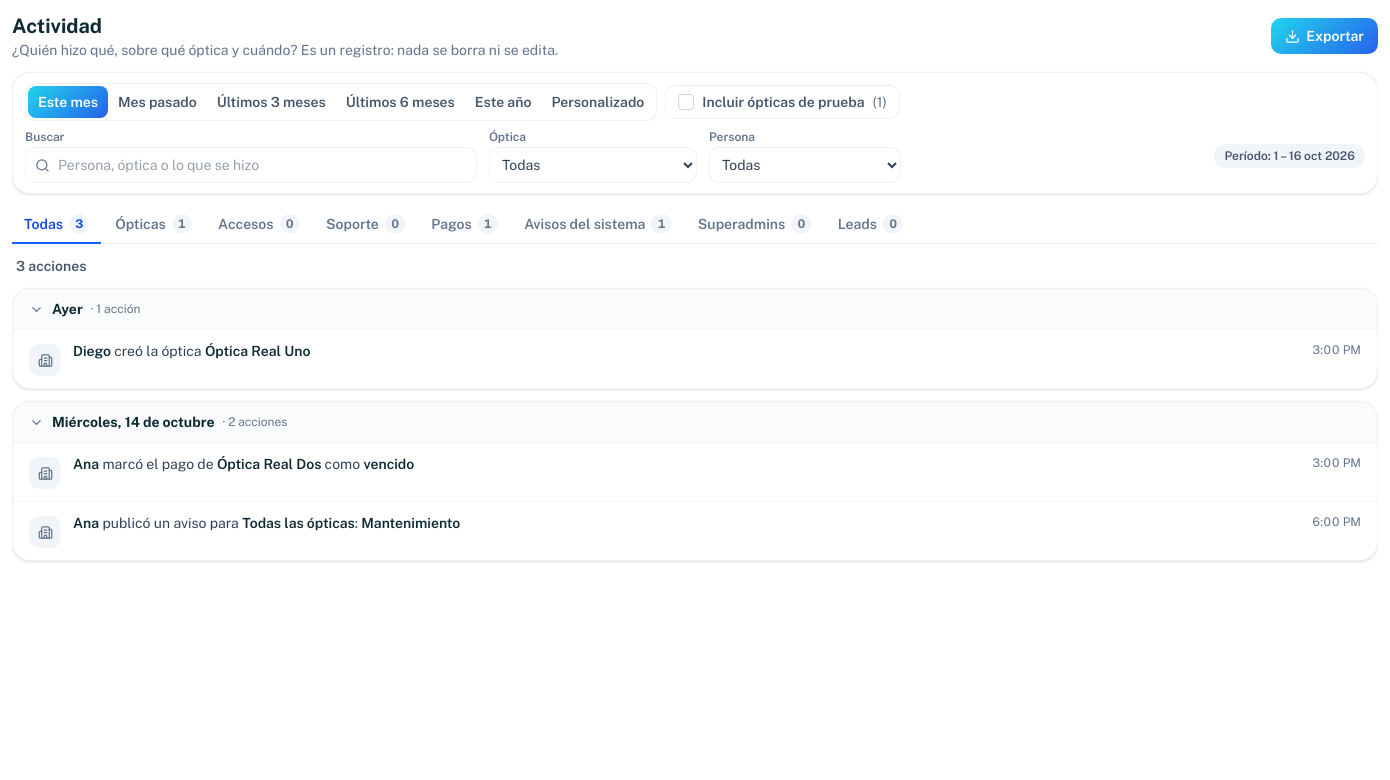
it: Actividad del superadmin › filtra por tipo y los filtros activos se ven como etiquetas con su 'x'
Expected: the text "3 acciones" is shown, [16,258,86,274]
Step 1. Click the tab "Pagos 1" → (465, 225), box [419,206,510,244]
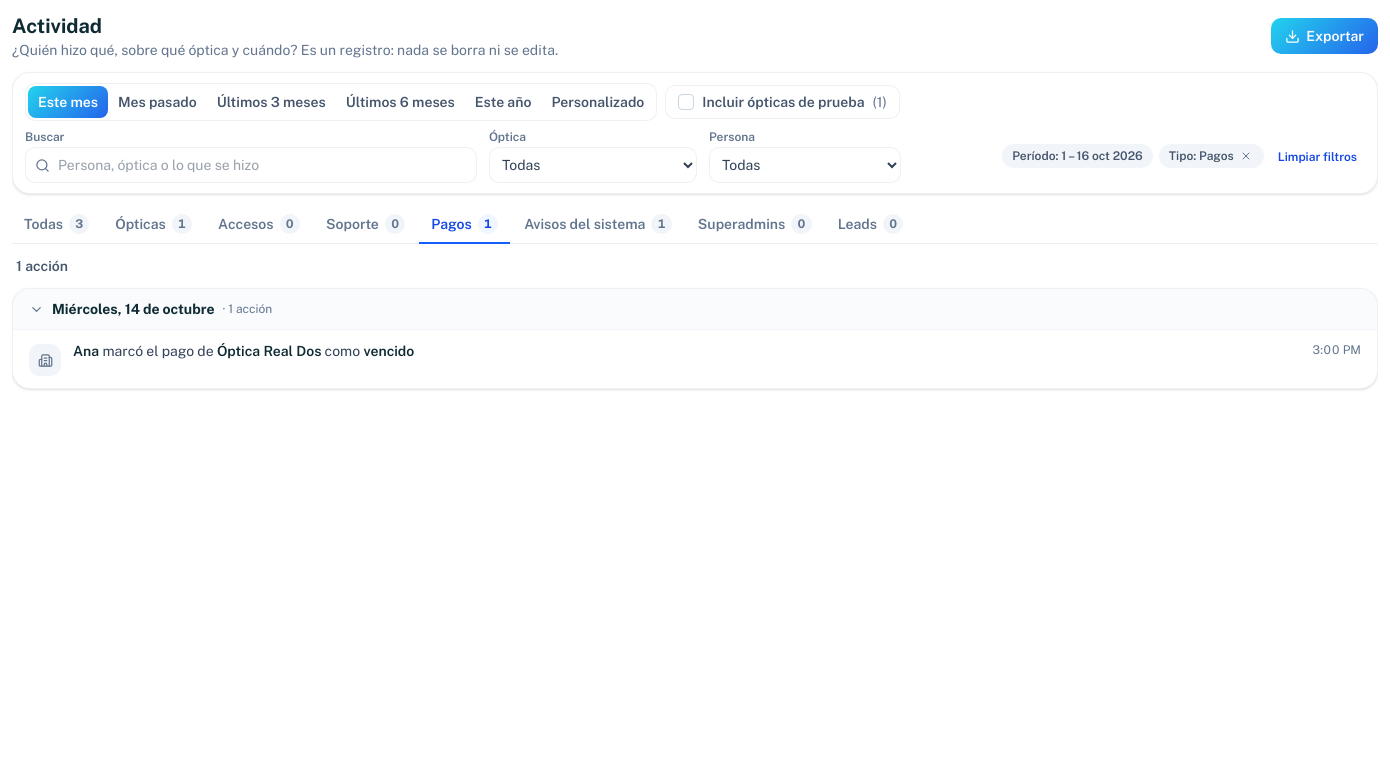
Now the text "1 acción" is shown, box [16,258,68,274]
Step 2. Click the button named "Quitar el filtro" → (1246, 156), box [1238,148,1254,164]
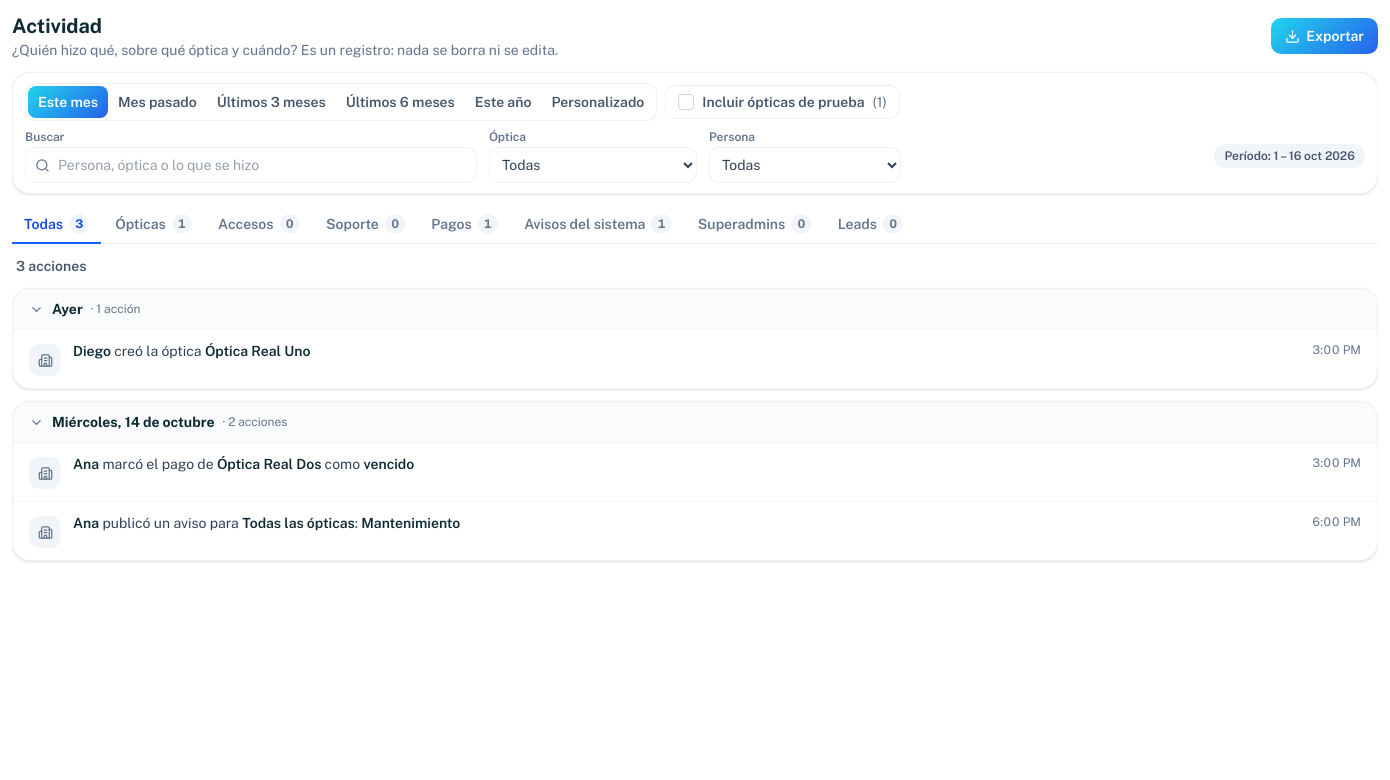
Now the text "3 acciones" is shown, box [16,258,86,274]
Step 3. Type "mantenimiento" into the search field named "Buscar en la actividad" → (251, 165), box [25,147,477,183]
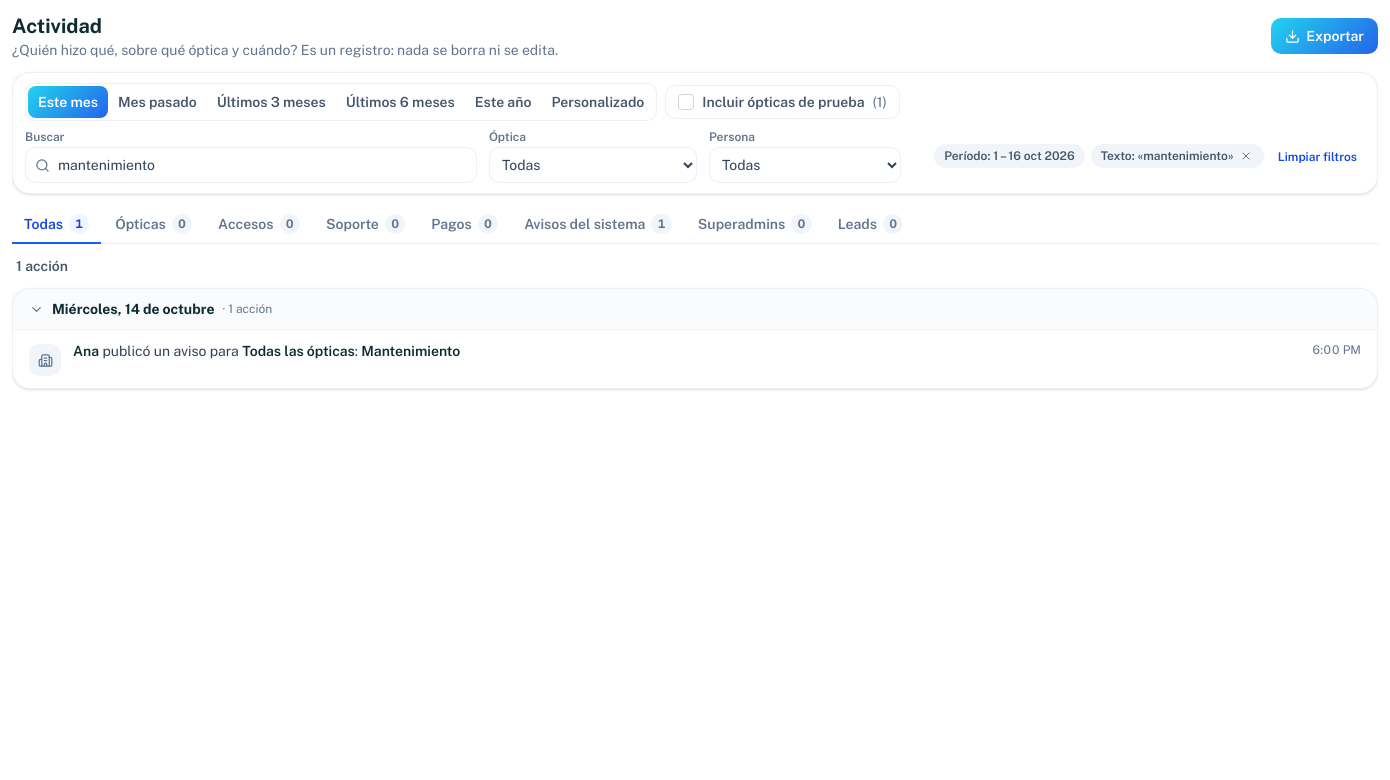
Now the text "1 acción" is shown, box [16,258,68,274]
